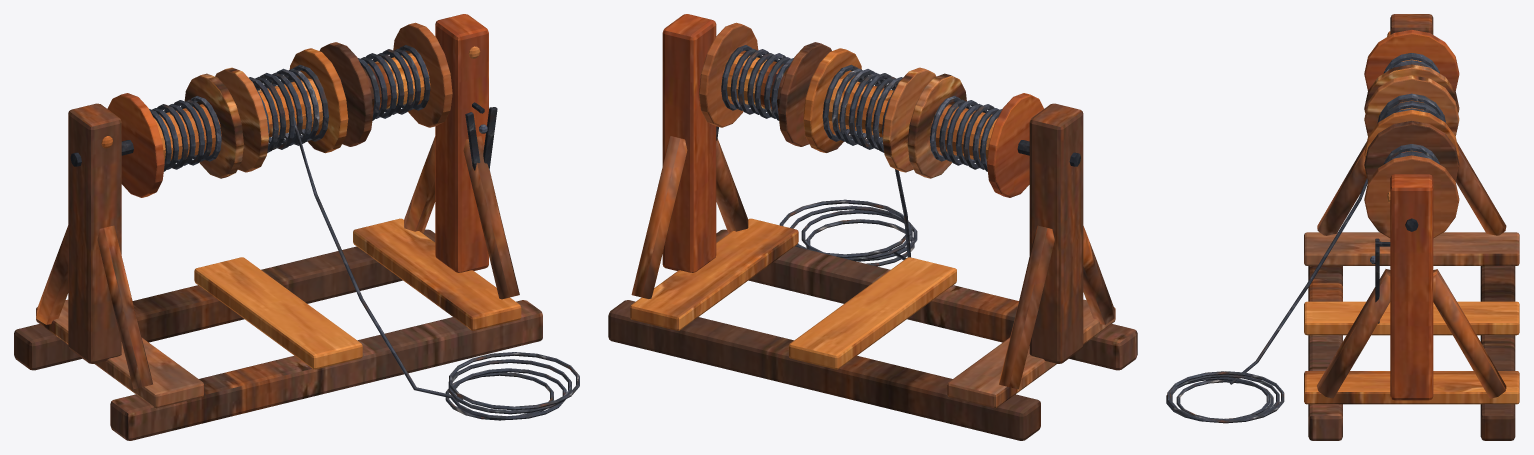
The model's file is op_wire_spools.glb.
3 views of the same model, side by side, from view 1: azimuth 30°, elevation 25°; view 2: azimuth 150°, elevation 25°; view 3: azimuth 270°, elevation 25° (orthographic). The views are drawn at different scales.
Parts seen in each view (by area): view 1: model; view 2: model; view 3: model.
Part boxes in pixels (<box>): model: <box>14,14,579,440</box>; model: <box>608,14,1137,440</box>; model: <box>1166,14,1519,440</box>.
Size of the model in its own units: 1 by 0.66 by 0.8197.
Materials: 17 (17 with a texture image).
